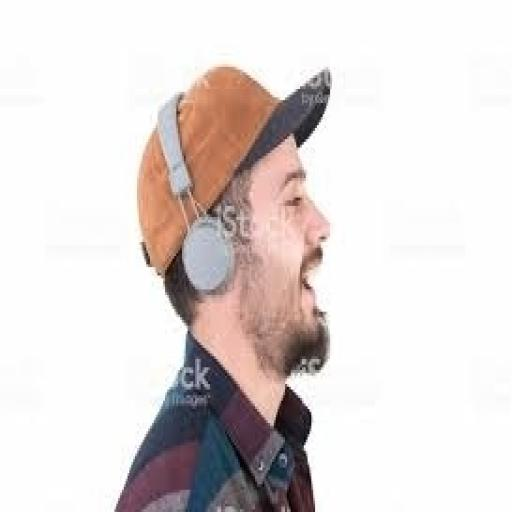listening_to_music: (108, 58, 336, 510)
